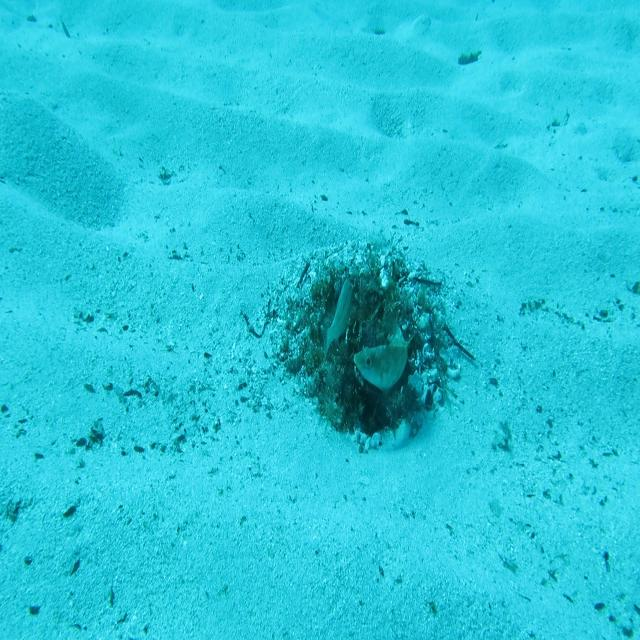BEND: (353, 310, 413, 397)
core_nest: (334, 284, 377, 337)
female: (320, 274, 356, 369)
nest: (253, 211, 468, 465)
vegetation: (456, 48, 483, 68)
